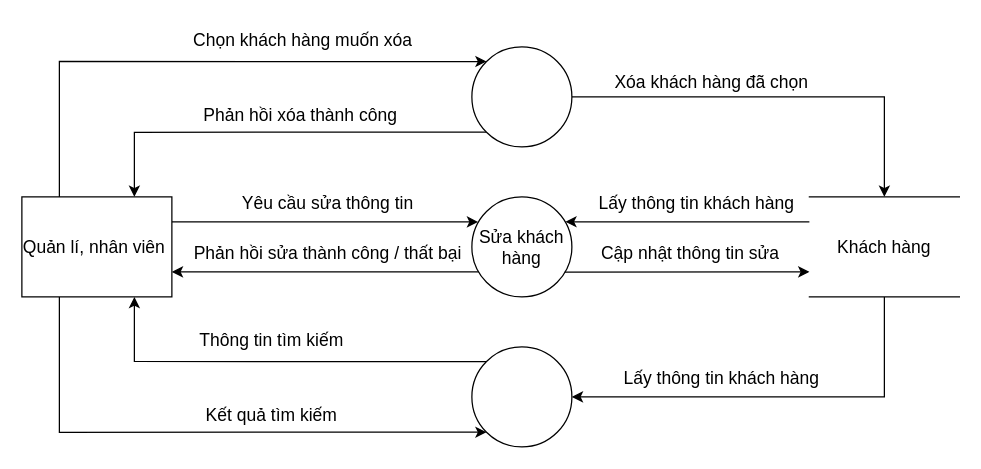
Image size: 981x469. Some labels were removed from this diagram. Here are the shapes that lost their labels. From the top down, the centre of each, then its label:
At point 521,96: "Xóa khách hàng".
At point 521,396: "Tìm kiếm khách hàng".
